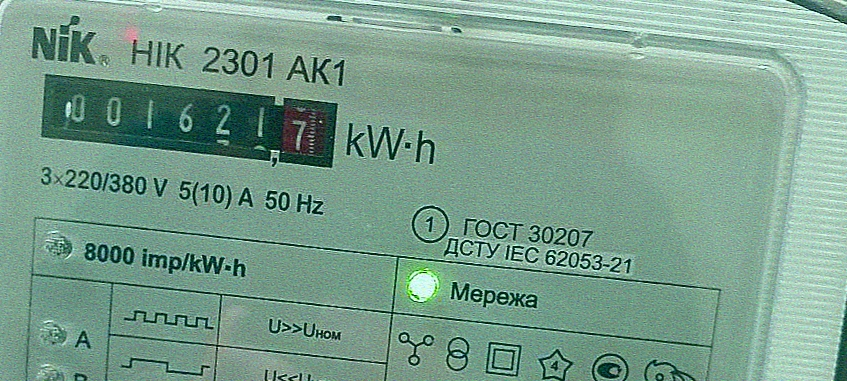0: (100, 90, 127, 130), (66, 87, 90, 124)
1: (251, 100, 270, 139), (140, 93, 159, 131)
2: (211, 99, 237, 138)
6: (174, 98, 198, 134)
7: (285, 114, 309, 152)
screen: (31, 59, 347, 181)
